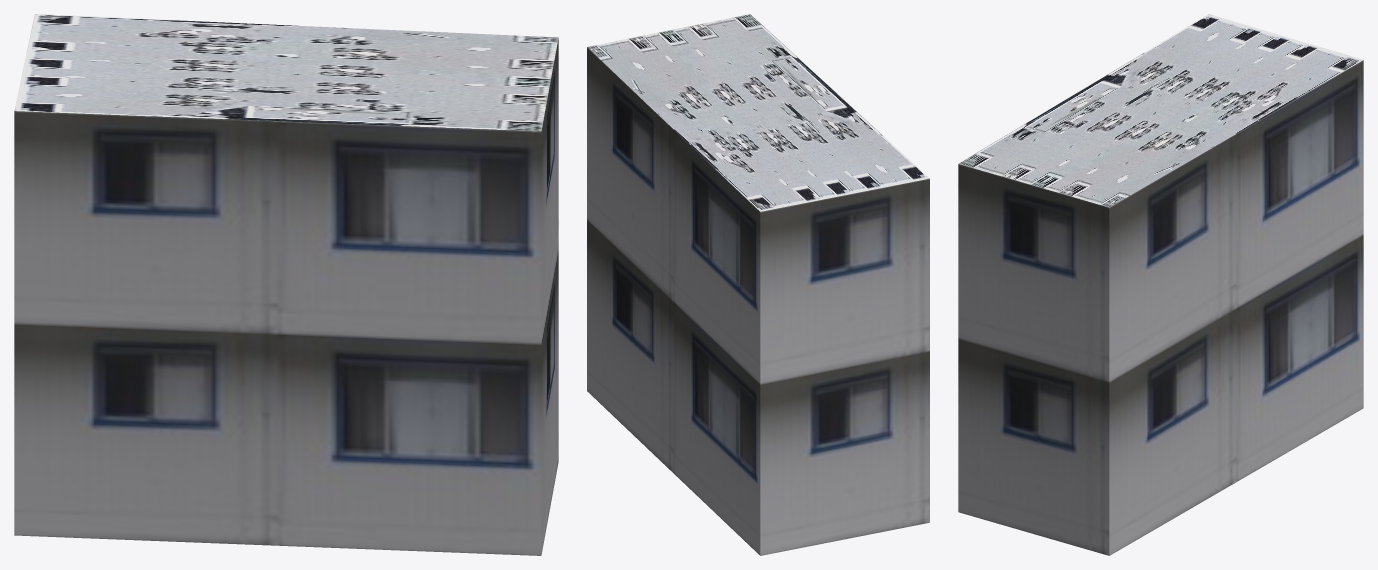
Rendered from ResTex__4375.fbx.
3 renders of one model, left to right at view 1: azimuth 30°, elevation 25°; view 2: azimuth 150°, elevation 25°; view 3: azimuth 270°, elevation 25°, orthographic. The views are drawn at different scales.
Parts seen in each view (by area): view 1: CityEngineMaterial_9_m, CityEngineMaterial_8_m; view 2: CityEngineMaterial_9_m, CityEngineMaterial_8_m; view 3: CityEngineMaterial_9_m, CityEngineMaterial_8_m.
Part boxes in pixels (x1,y1,x2,y2): CityEngineMaterial_9_m: [14, 38, 558, 555]; CityEngineMaterial_8_m: [14, 14, 558, 131]; CityEngineMaterial_9_m: [587, 47, 929, 555]; CityEngineMaterial_8_m: [587, 14, 929, 211]; CityEngineMaterial_9_m: [958, 60, 1363, 555]; CityEngineMaterial_8_m: [958, 14, 1362, 207].
Size of the model in its own units: 7.15 by 6 by 6.33.
2 materials, 2 textured.
